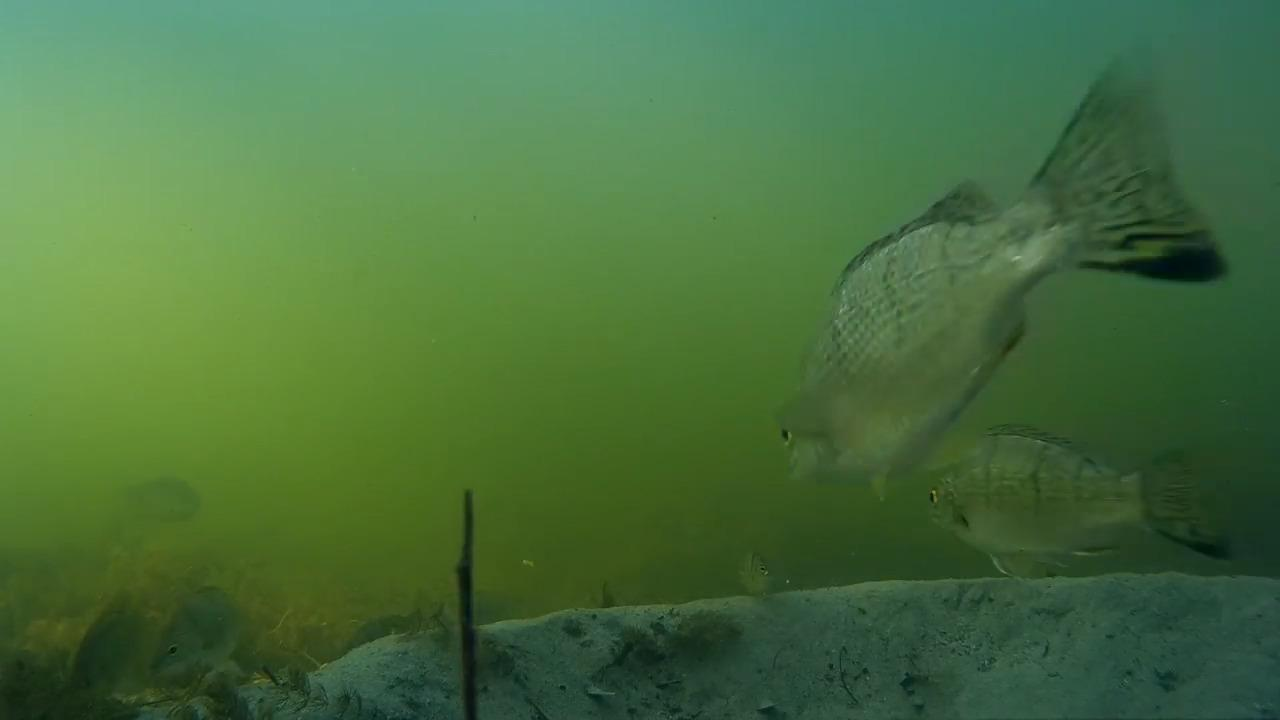Tilapia: (791, 48, 1244, 476), (918, 423, 1187, 570)
